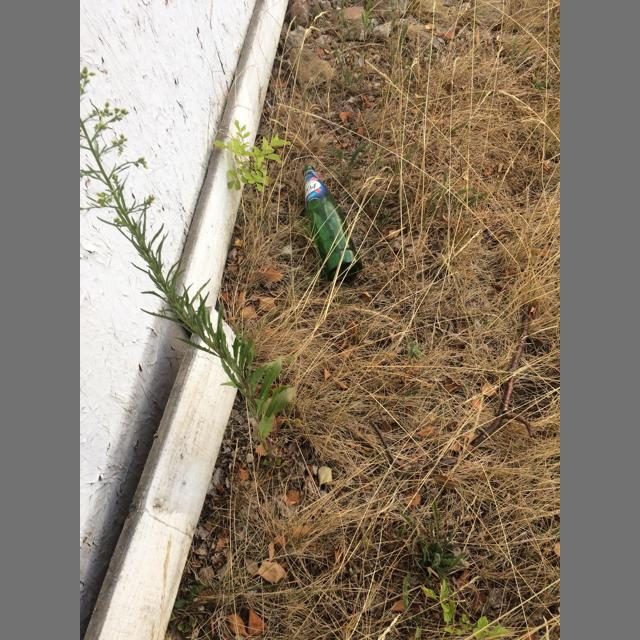litter: (303, 166, 362, 282)
